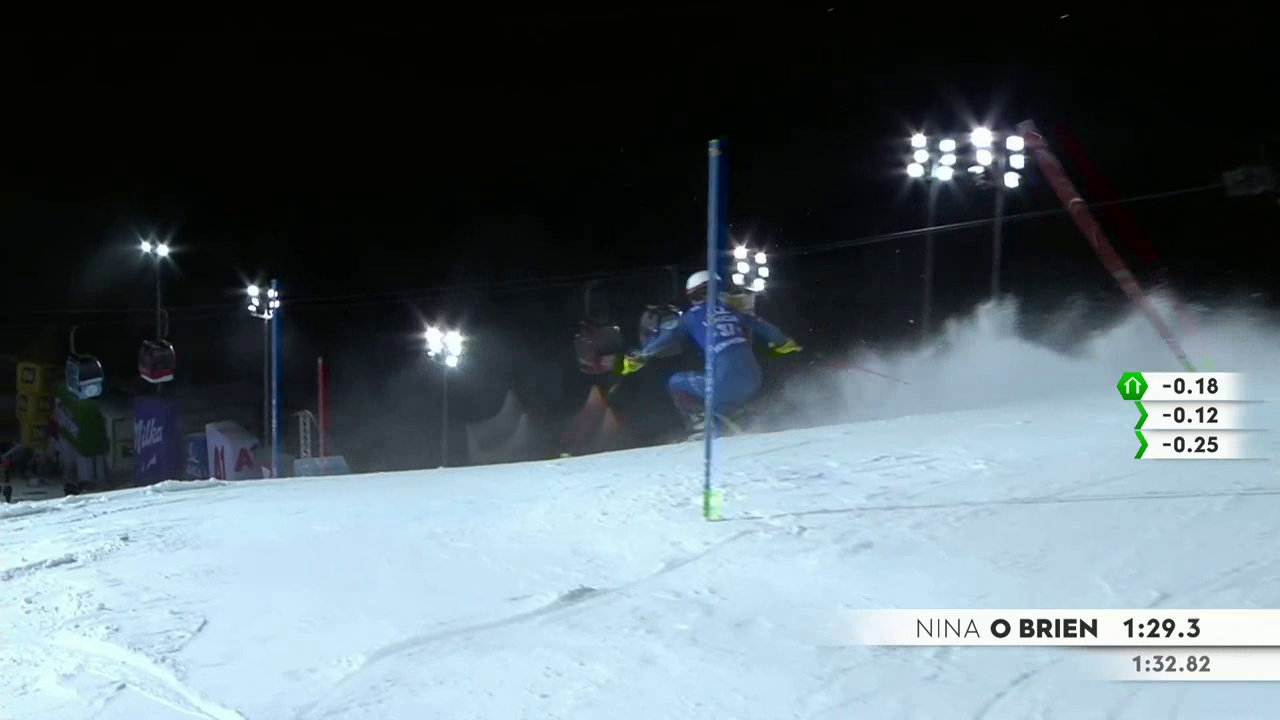a1: (231, 441, 259, 481)
